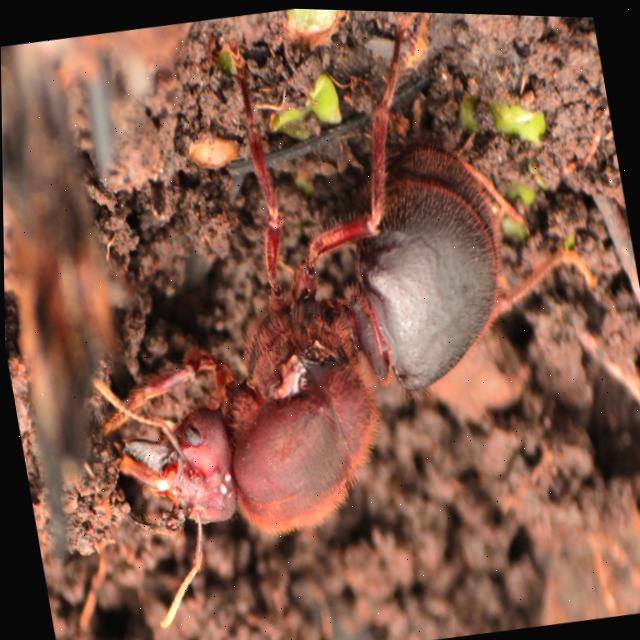Alive-Female-Dealate: (36, 11, 554, 640)
